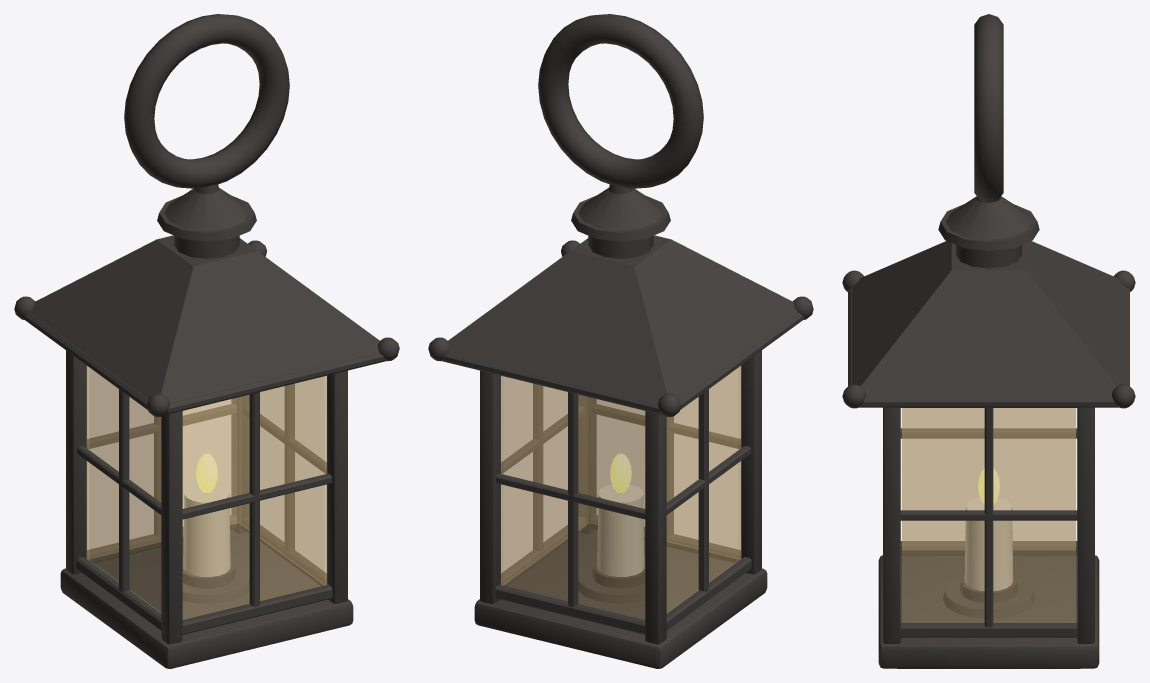
File: iron-lantern_final.glb
The picture shows the model from 3 angles, left to right: view 1: azimuth 30°, elevation 25°; view 2: azimuth 150°, elevation 25°; view 3: azimuth 270°, elevation 25°; orthographic projection.
Visible parts, largest first — view 1: SM_IronLantern_Roof, SM_IronLantern_Glass, SM_IronLantern_Frame, SM_IronLantern_Base, SM_IronLantern_Ring, SM_IronLantern_Candle, SM_IronLantern_Flame; view 2: SM_IronLantern_Roof, SM_IronLantern_Glass, SM_IronLantern_Frame, SM_IronLantern_Base, SM_IronLantern_Ring, SM_IronLantern_Candle, SM_IronLantern_Flame; view 3: SM_IronLantern_Roof, SM_IronLantern_Glass, SM_IronLantern_Frame, SM_IronLantern_Base, SM_IronLantern_Ring, SM_IronLantern_Candle.
Part boxes in pixels (x1=…): SM_IronLantern_Roof: x1=14, y1=188, x2=399, y2=417; SM_IronLantern_Glass: x1=86, y1=365, x2=326, y2=619; SM_IronLantern_Frame: x1=66, y1=350, x2=347, y2=644; SM_IronLantern_Base: x1=60, y1=529, x2=353, y2=668; SM_IronLantern_Ring: x1=124, y1=14, x2=289, y2=194; SM_IronLantern_Candle: x1=183, y1=484, x2=230, y2=576; SM_IronLantern_Flame: x1=196, y1=453, x2=217, y2=493; SM_IronLantern_Roof: x1=428, y1=188, x2=813, y2=417; SM_IronLantern_Glass: x1=501, y1=365, x2=741, y2=619; SM_IronLantern_Frame: x1=480, y1=350, x2=761, y2=644; SM_IronLantern_Base: x1=474, y1=529, x2=767, y2=668; SM_IronLantern_Ring: x1=538, y1=14, x2=703, y2=194; SM_IronLantern_Candle: x1=597, y1=484, x2=644, y2=576; SM_IronLantern_Flame: x1=610, y1=453, x2=631, y2=493; SM_IronLantern_Roof: x1=842, y1=196, x2=1135, y2=408; SM_IronLantern_Glass: x1=902, y1=408, x2=1075, y2=622; SM_IronLantern_Frame: x1=883, y1=407, x2=1094, y2=643; SM_IronLantern_Base: x1=878, y1=555, x2=1099, y2=668; SM_IronLantern_Ring: x1=974, y1=14, x2=1003, y2=203; SM_IronLantern_Candle: x1=964, y1=497, x2=1013, y2=590.
Size of the model in its own units: 0.2649 by 0.608 by 0.266.
